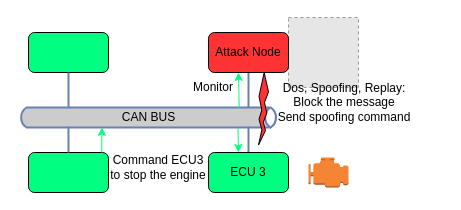
The diagram is 461 pixels wide and 210 high, and some of its shapes have lost their labels. Grey dashed boxes stand in for pictures. The shapes that lost their labels are listed below. From the top down, each one's centre as x and y in pixels, then its label:
At [68,52]: "ECU 1".
At [68,172]: "ECU 2".
